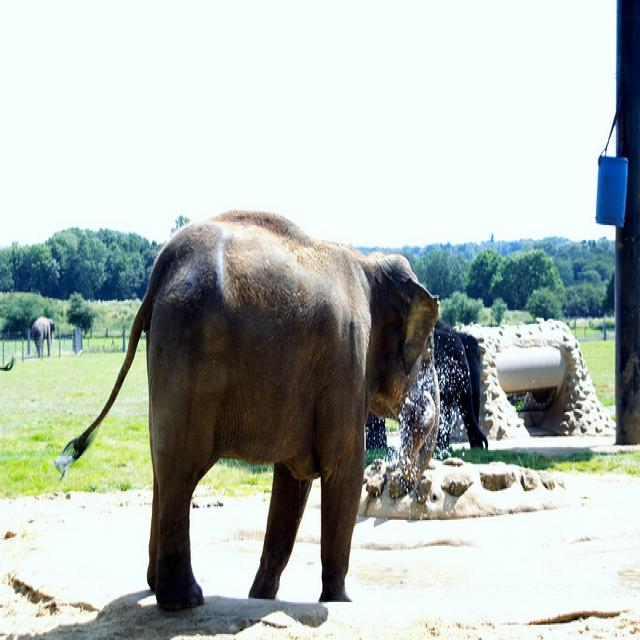Elephant: (54, 207, 441, 611), (30, 315, 55, 357)
